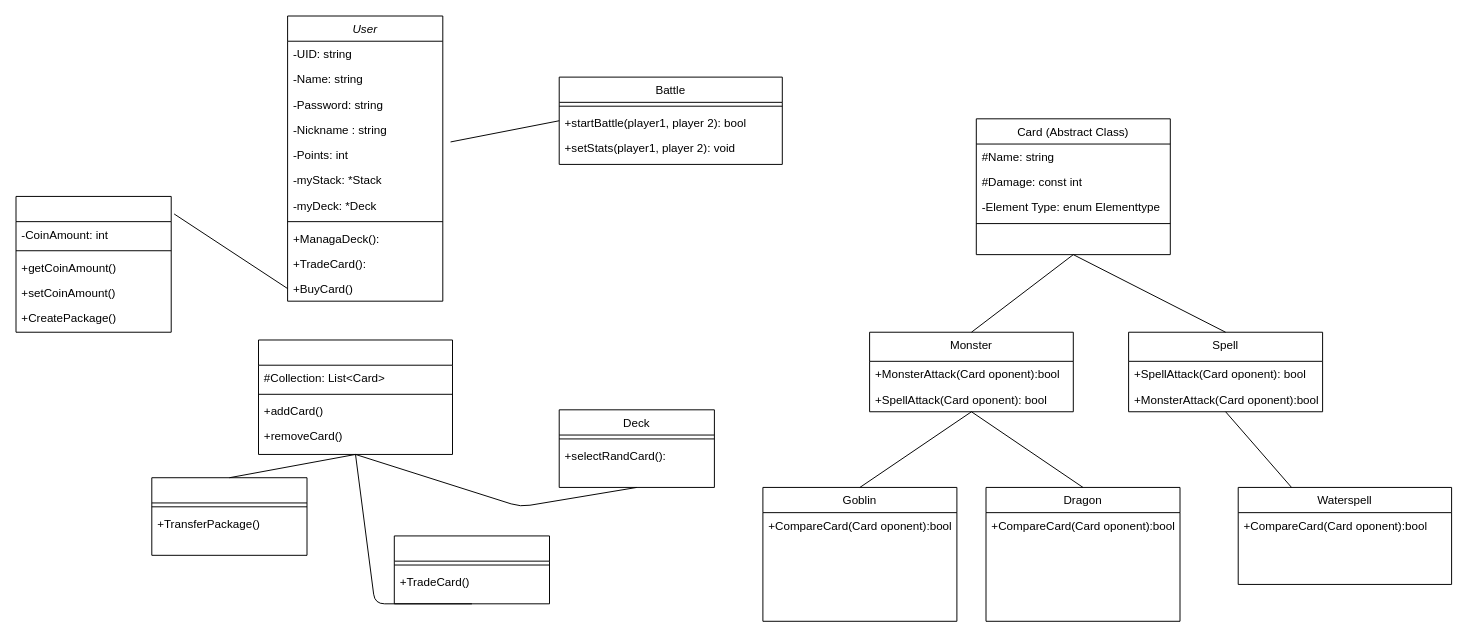
Image size: 1468x637. Some labels were removed from this diagram. The shapes that lost their labels are listed below. From the top down, each one's box as (x1, y1, x2, y2) in pixels, then its label:
(15, 195, 171, 332): Wallet
(258, 339, 453, 454): DeckManager(Abstract Class)
(151, 477, 307, 555): Packages
(393, 535, 550, 604): Stack
